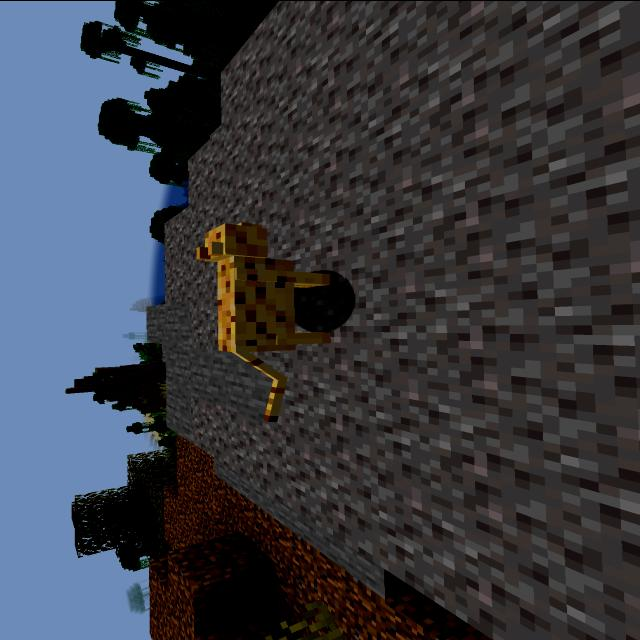Ocelot: (184, 210, 358, 424)
